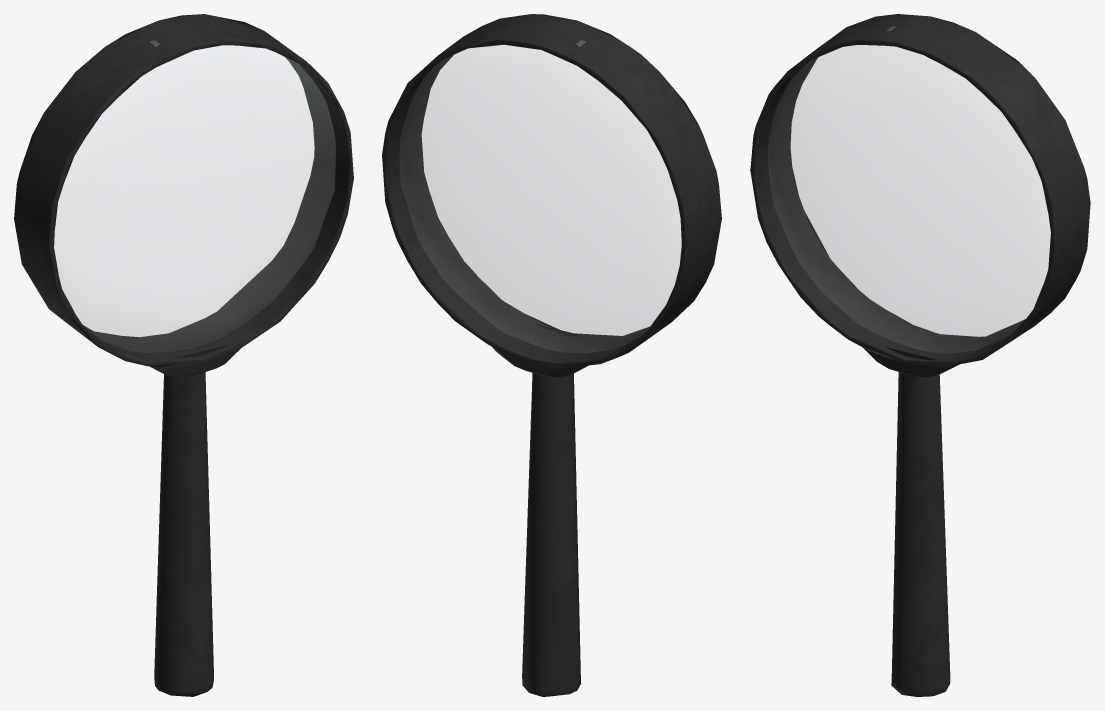
The model's file is handitem_lupe.glb.
3 views of the same model, side by side, from view 1: azimuth 30°, elevation 25°; view 2: azimuth 150°, elevation 25°; view 3: azimuth 330°, elevation 25° (orthographic).
Parts seen in each view (by area): view 1: origin; view 2: origin; view 3: origin.
Boxes of the visible parts, x1,y1,x2,y2 form: origin: (14,14,353,696); origin: (382,14,721,696); origin: (750,14,1090,696).
Size of the model in its own units: 0.132 by 0.2715 by 0.0267.
Materials: 2 (1 with a texture image).
